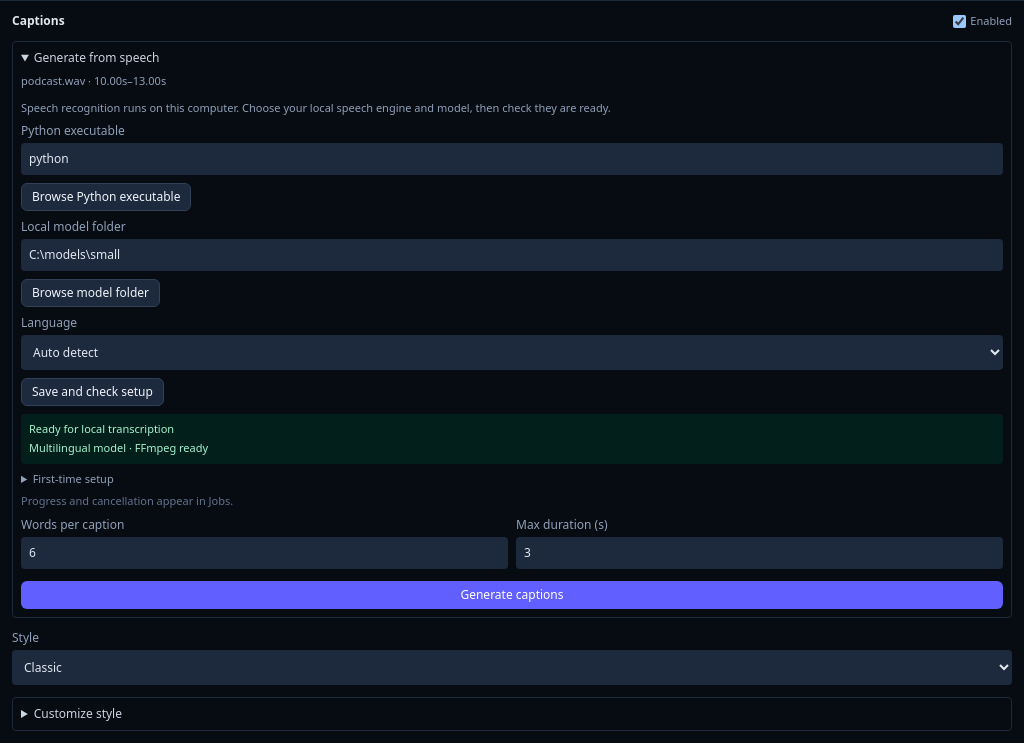
CaptionDesigner generation › rejects a delayed result when the timeline changes during recognition
The image size is (1024, 743).
Step 1. Click the button "Generate captions" → click(512, 595), box left=21, top=581, right=1003, bottom=609
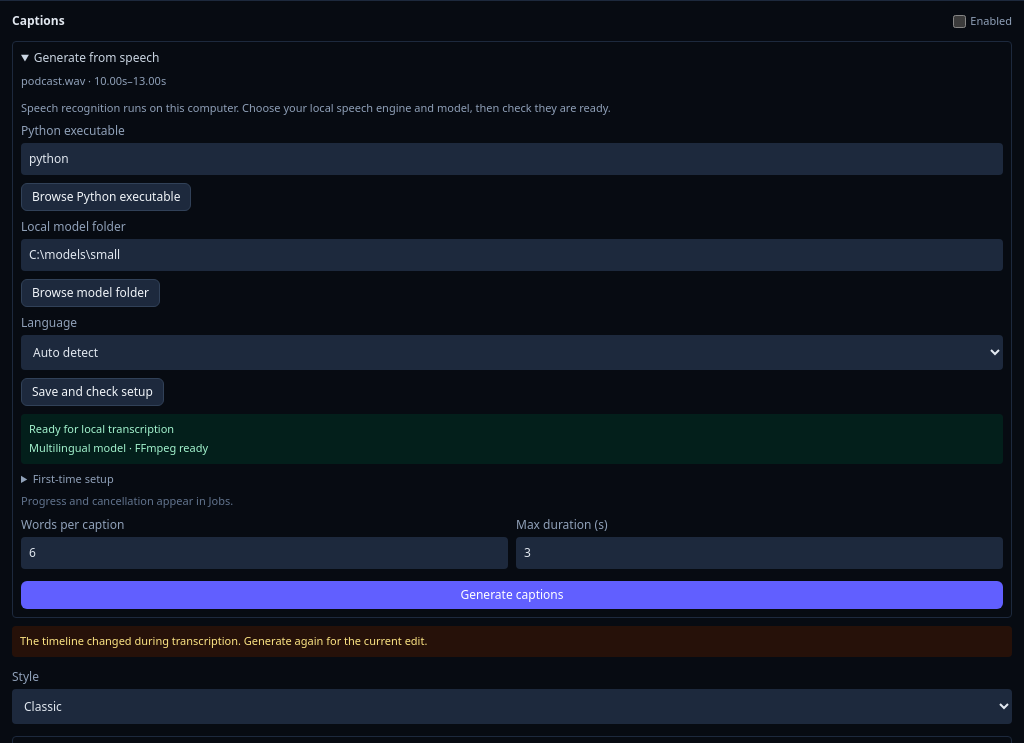
Now the 2nd message shows "timeline changed during transcription", box left=20, top=633, right=427, bottom=648
